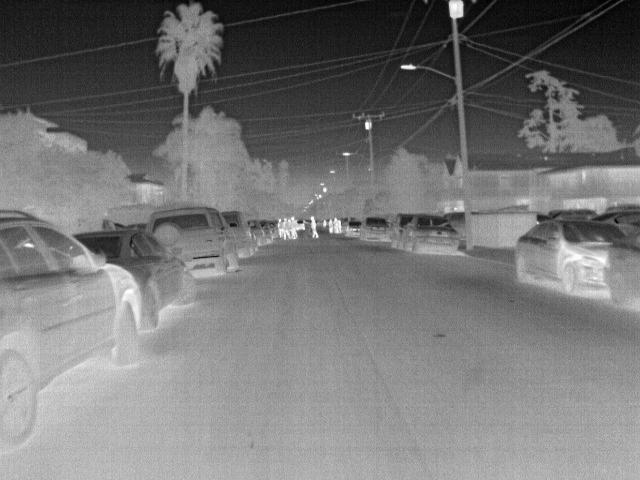car: (5, 204, 148, 456), (69, 226, 195, 328), (515, 219, 626, 297), (146, 207, 238, 274), (404, 218, 462, 254), (225, 211, 257, 256), (590, 210, 637, 235), (389, 214, 418, 244), (360, 217, 391, 242), (247, 218, 267, 246), (546, 209, 596, 220), (259, 219, 276, 245), (346, 220, 366, 236), (296, 220, 306, 232)
person: (290, 215, 300, 240), (310, 216, 321, 238), (277, 218, 285, 239), (332, 215, 340, 235), (327, 218, 335, 236)
